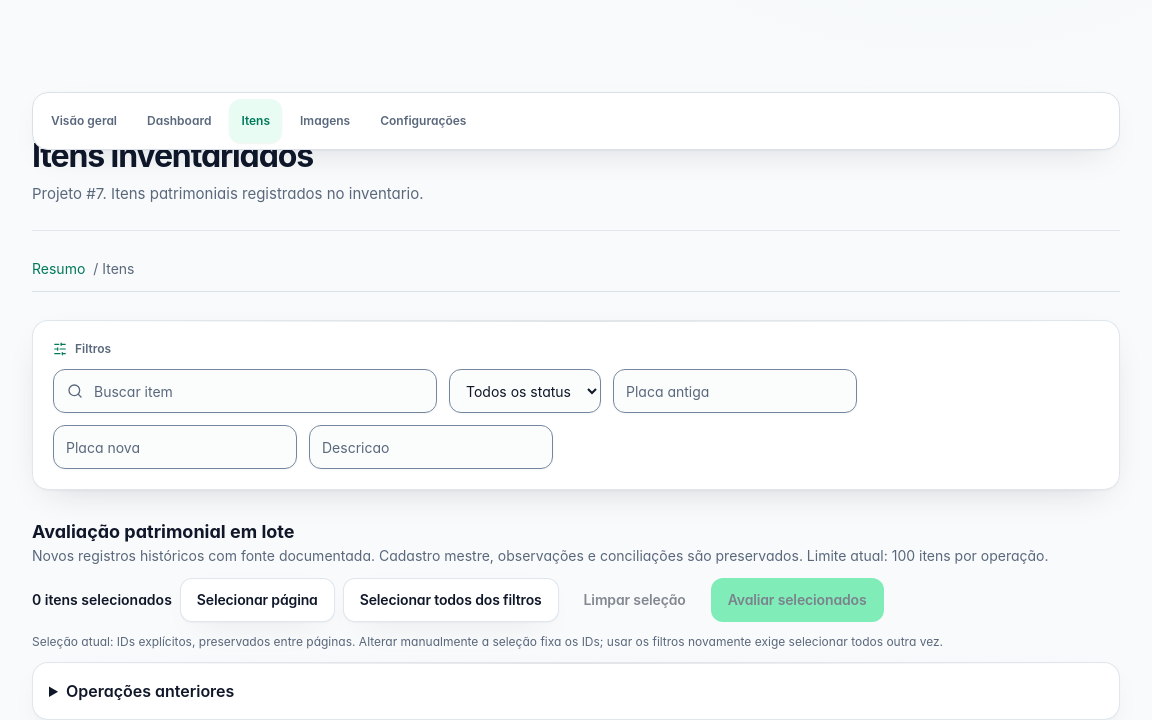
Test: Batch valuation integrated item workspace › resolves all matching filter items with a backend contract instead of loaded-page data
This screenshot has width=1152, height=720.
Click the button "Selecionar todos dos filtros": (451, 600) [343,578,559,622]
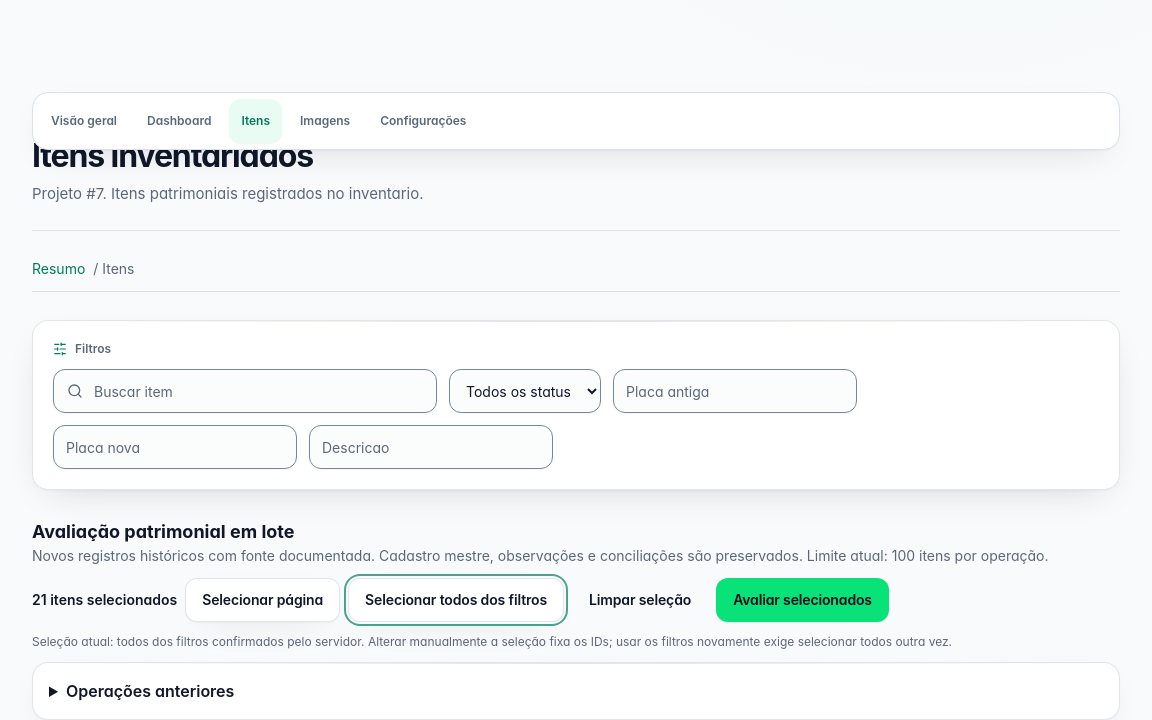
Check: the text "21 itens selecionados" is shown, box [32,590,177,610]
Click the button "Limpar seleção": (640, 600) [572,578,708,622]
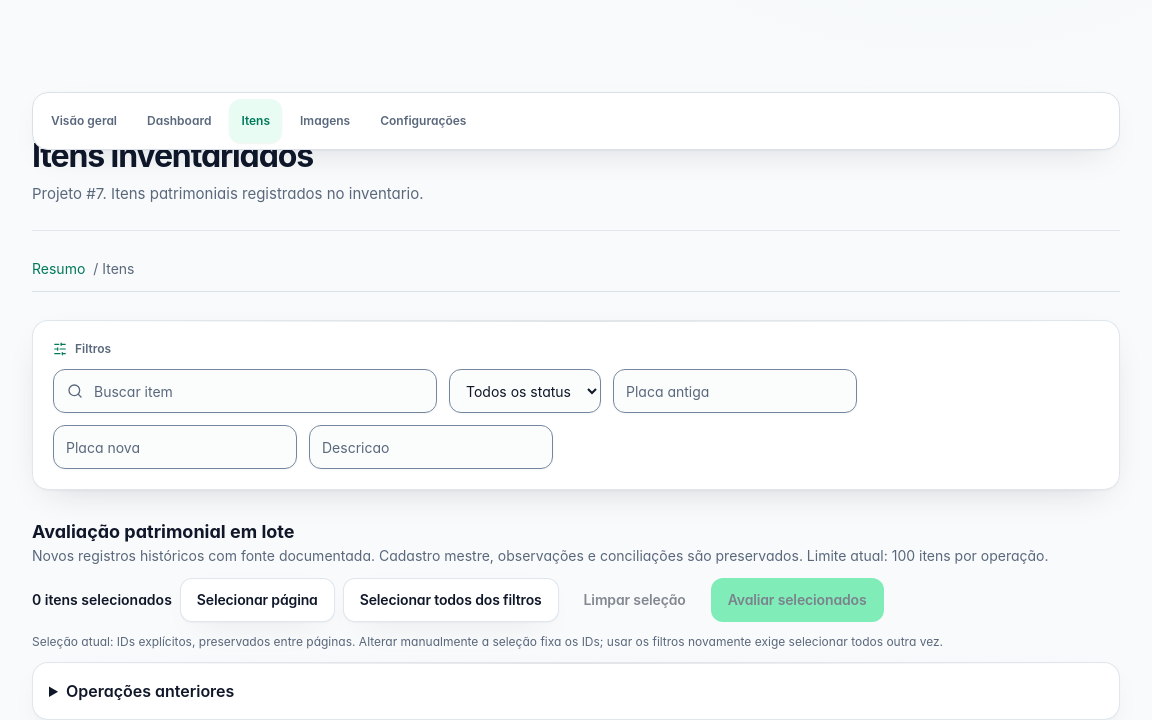
Check: the text "0 itens selecionados" is shown, box [32,590,172,610]
